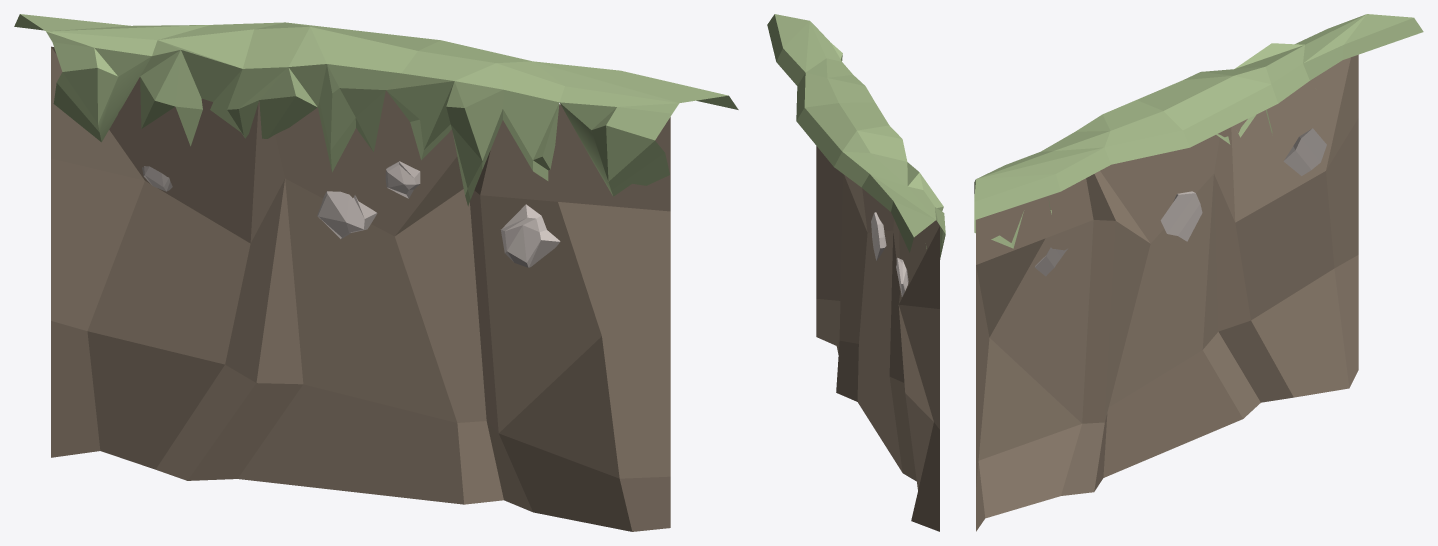
The model's file is ER_Terrain_1x1_GrassDiagonal.fbx.
The picture shows the model from 3 angles, left to right: view 1: azimuth 30°, elevation 25°; view 2: azimuth 150°, elevation 25°; view 3: azimuth 270°, elevation 25°; orthographic projection. The views are drawn at different scales.
Parts seen in each view (by area): view 1: ER_Terrain_1x1_GrassDiagonal; view 2: ER_Terrain_1x1_GrassDiagonal; view 3: ER_Terrain_1x1_GrassDiagonal.
Boxes of the visible parts, x1,y1,x2,y2 form: ER_Terrain_1x1_GrassDiagonal: [14, 14, 738, 531]; ER_Terrain_1x1_GrassDiagonal: [767, 14, 945, 531]; ER_Terrain_1x1_GrassDiagonal: [974, 14, 1423, 531].
Bounding box in the file's own units: 1.17 × 1.07 × 1.18.
